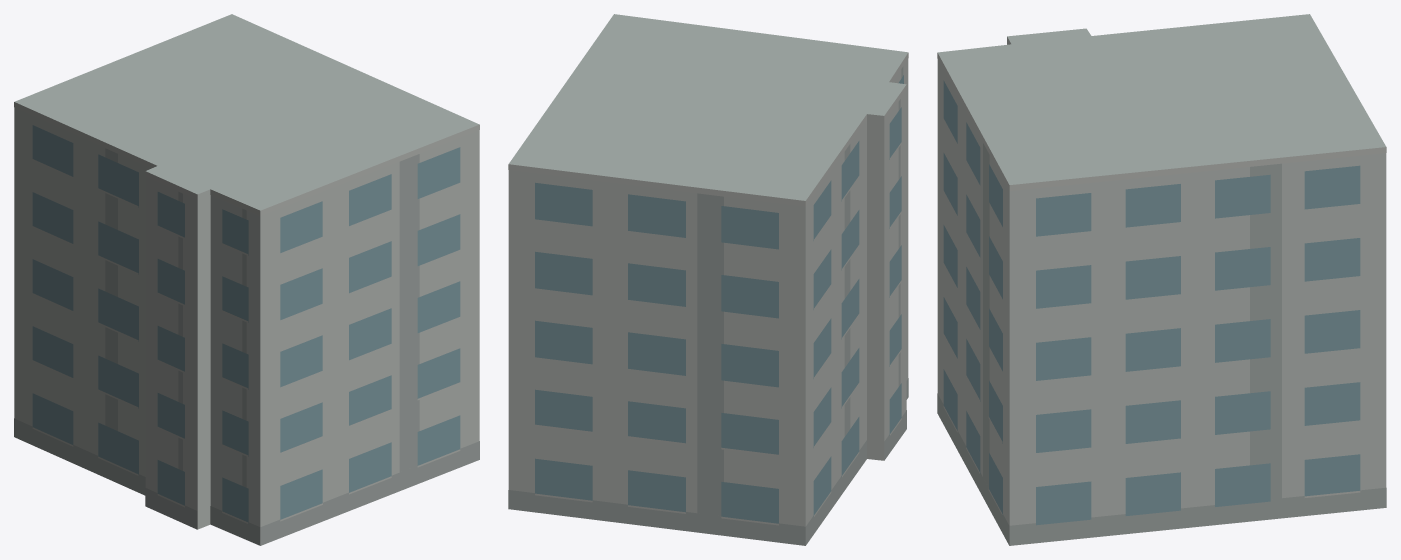
File: survey-upis-32597403.glb
3 renders of one model, left to right at view 1: azimuth 30°, elevation 25°; view 2: azimuth 150°, elevation 25°; view 3: azimuth 270°, elevation 25°, orthographic. The views are drawn at different scales.
Parts seen in each view (by area): view 1: survey-upis-32597403.tmp; view 2: survey-upis-32597403.tmp; view 3: survey-upis-32597403.tmp.
Boxes of the visible parts, left/top/right/bottom form: survey-upis-32597403.tmp: left=14, top=14, right=479, bottom=545; survey-upis-32597403.tmp: left=508, top=14, right=908, bottom=545; survey-upis-32597403.tmp: left=937, top=14, right=1386, bottom=545.
Bounding box in the file's own units: 14.76 × 14.5 × 16.37.
